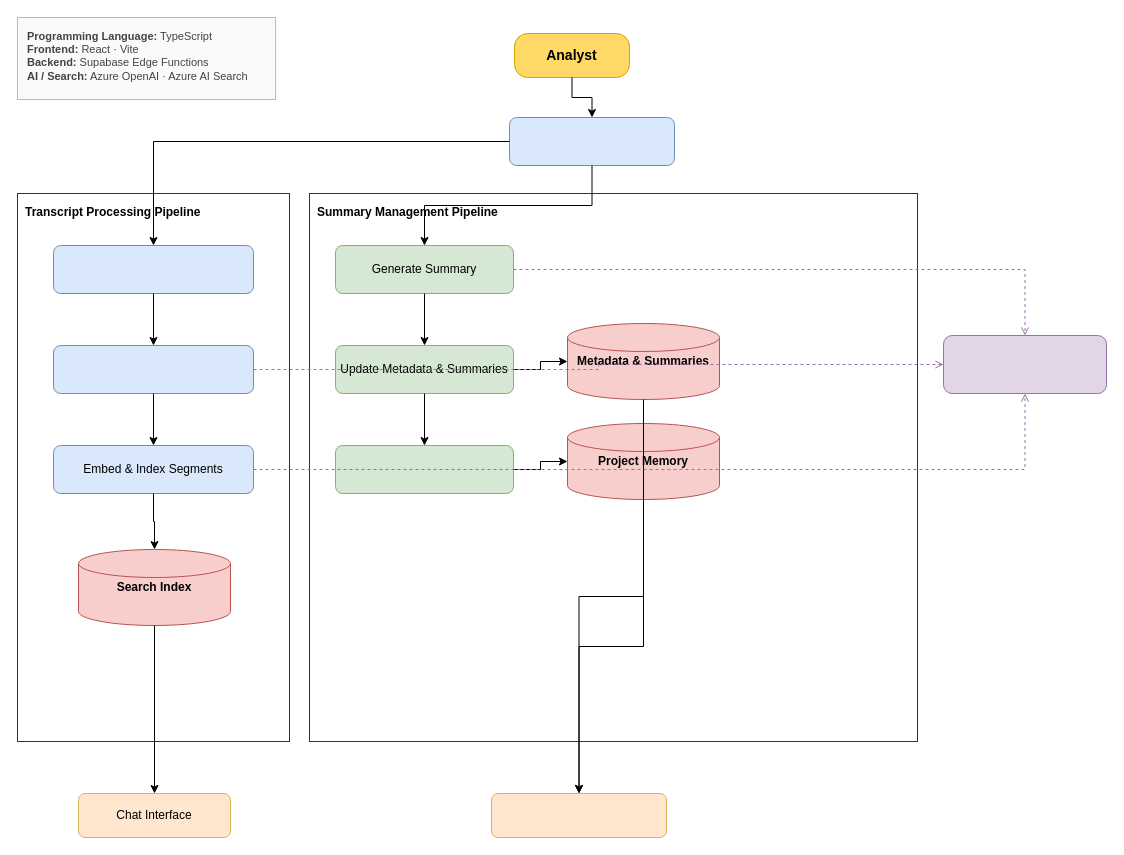
The diagram is 1124 pixels wide and 855 high, and some of its shapes have lost their labels. The centre of each missing label's shape, as x and y in pixels:
"AI Services LLM · Embeddings" belongs at point (1024, 364).
"Dashboard & Views" belongs at point (578, 815).
"Parse & Chunk Transcript" belongs at point (153, 269).
"Transcript Correction" belongs at point (153, 369).
"Update Project Memory" belongs at point (424, 469).
"Upload Transcript" belongs at point (591, 141).
